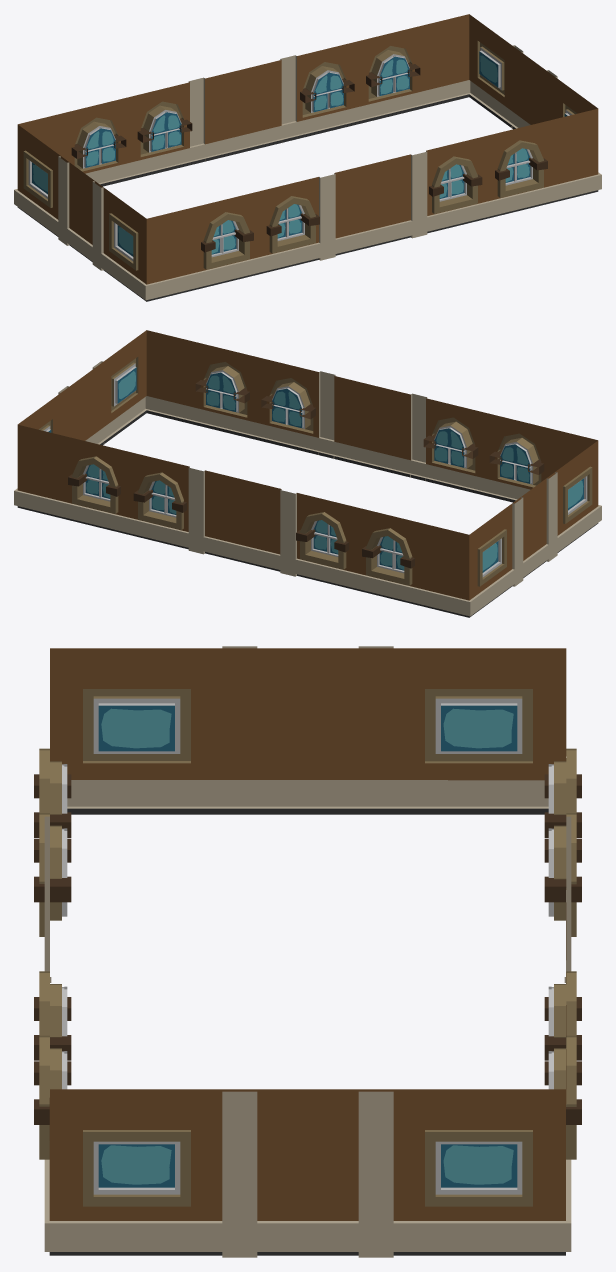
File: Building_B_01_01.FBX
3 views of the same model, one above another, from view 1: azimuth 30°, elevation 25°; view 2: azimuth 150°, elevation 25°; view 3: azimuth 270°, elevation 25° (orthographic). The views are drawn at different scales.
Parts seen in each view (by area): view 1: Building_B_01_01; view 2: Building_B_01_01; view 3: Building_B_01_01.
Part boxes in pixels (x1,y1,x2,y2): Building_B_01_01: [14, 14, 601, 301]; Building_B_01_01: [14, 330, 601, 617]; Building_B_01_01: [34, 646, 581, 1257].
Bounding box in the file's own units: 10 × 1.74 × 5.2.
